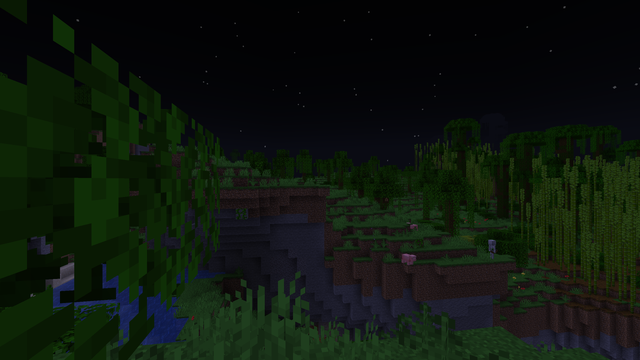cochons: (401, 253, 413, 264), (409, 223, 417, 231)
squelettes: (487, 239, 496, 258)
